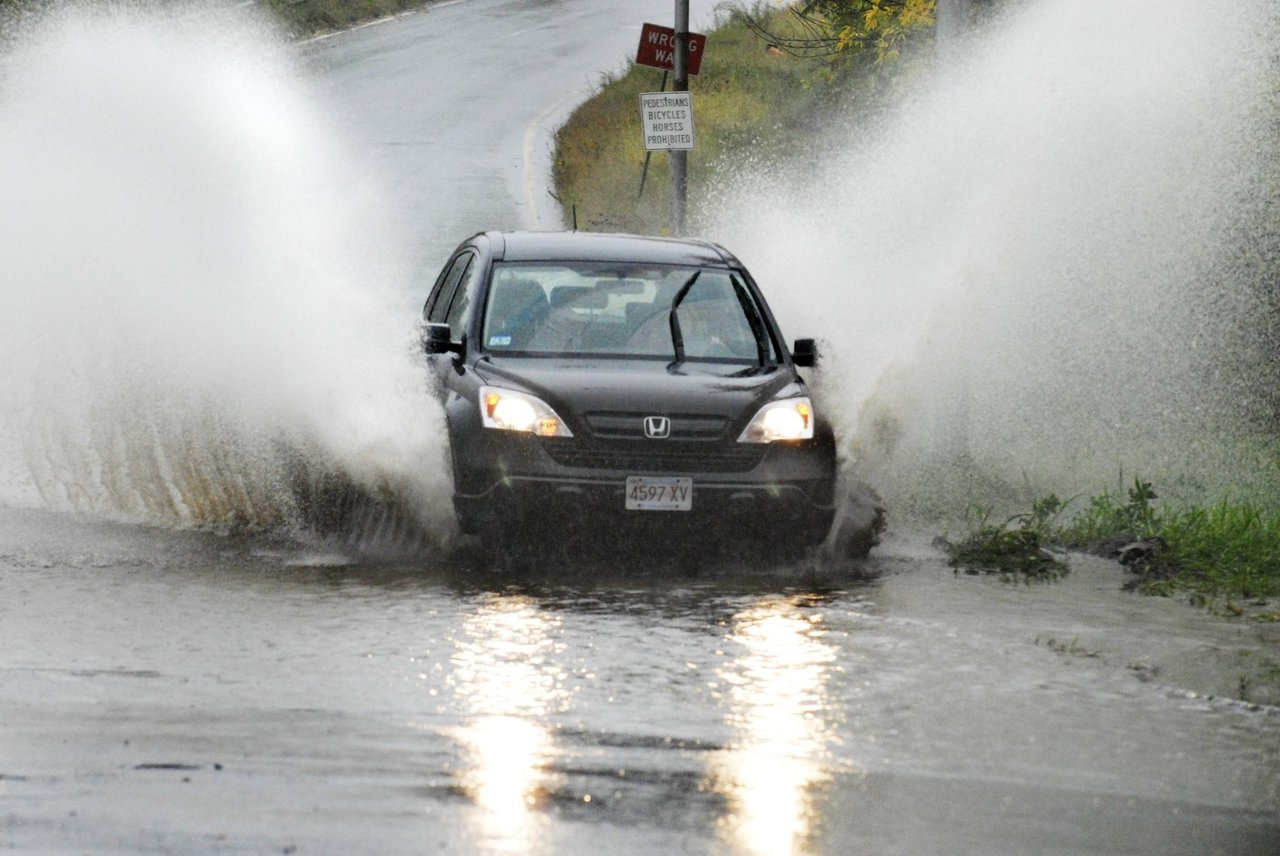car: (410, 227, 848, 559)
